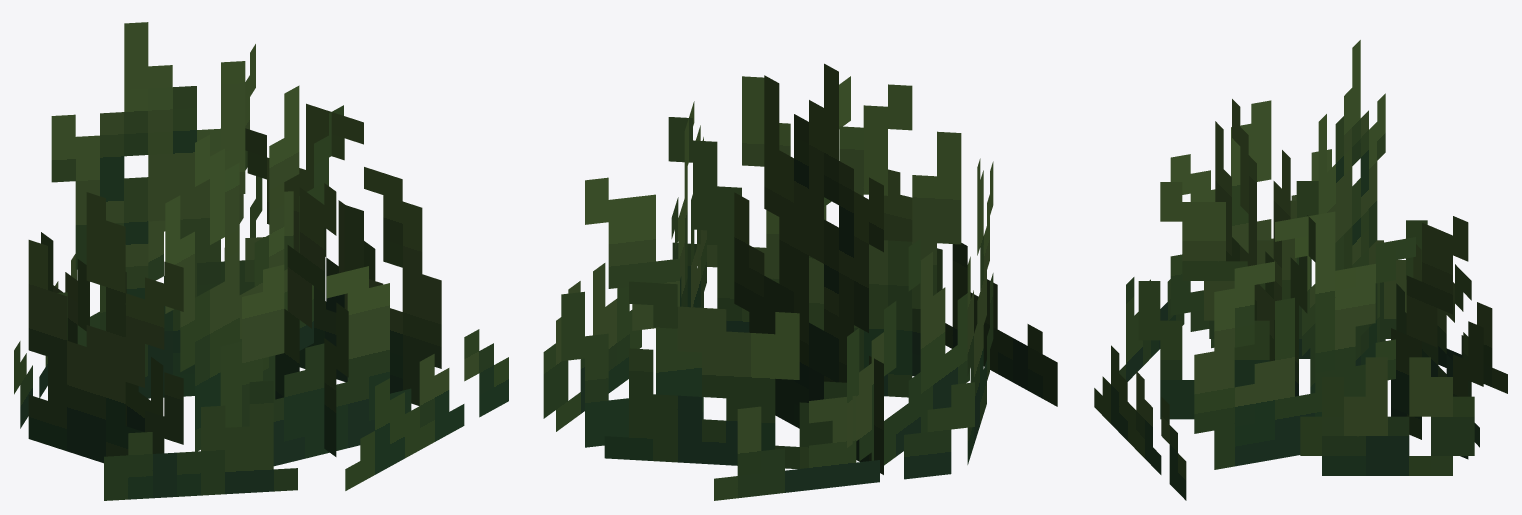
Rendered from grass-2.gltf.
3 renders of one model, left to right at view 1: azimuth 30°, elevation 25°; view 2: azimuth 150°, elevation 25°; view 3: azimuth 270°, elevation 25°, orthographic. The views are drawn at different scales.
Visible parts, largest first — view 1: cube (×13); view 2: cube (×13); view 3: cube (×12).
Part boxes in pixels (left/top/right/bottom): cube (×13): left=14, top=22, right=508, bottom=500; cube (×13): left=543, top=63, right=1057, bottom=500; cube (×12): left=1094, top=40, right=1507, bottom=500.
Bounding box in the file's own units: 1.21 × 1.08 × 1.21.
1 material, 1 textured.
